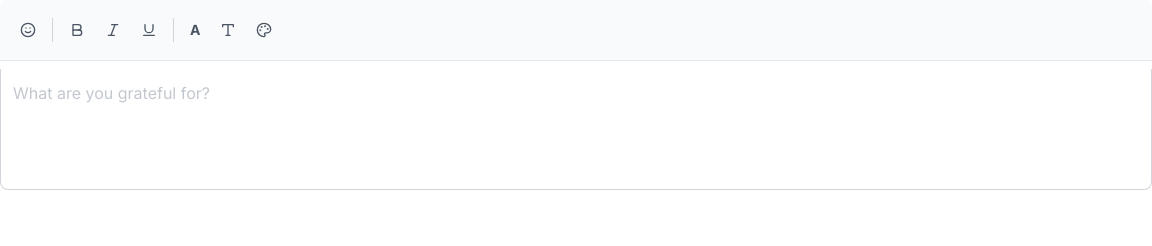
it: RichTextEditor Responsive Toolbar › shows text size picker when text size button is clicked
Click the button titled "Text Size" at [195, 30], box 182,12 -> 208,48
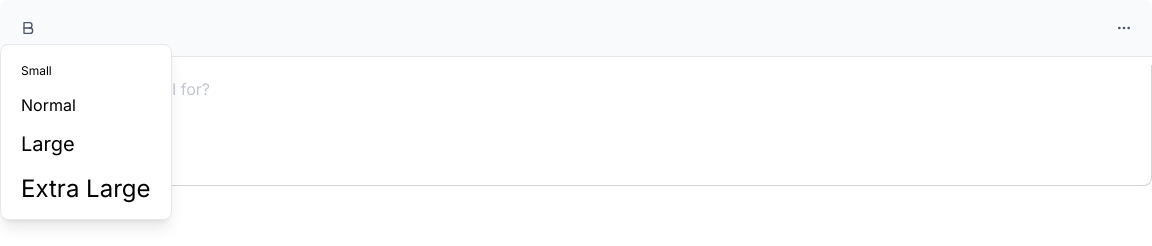
Now the text "Small" is shown, box 21,63 -> 52,78
Now the text "Normal" is shown, box 21,95 -> 76,115
Now the text "Large" is shown, box 21,132 -> 75,156
